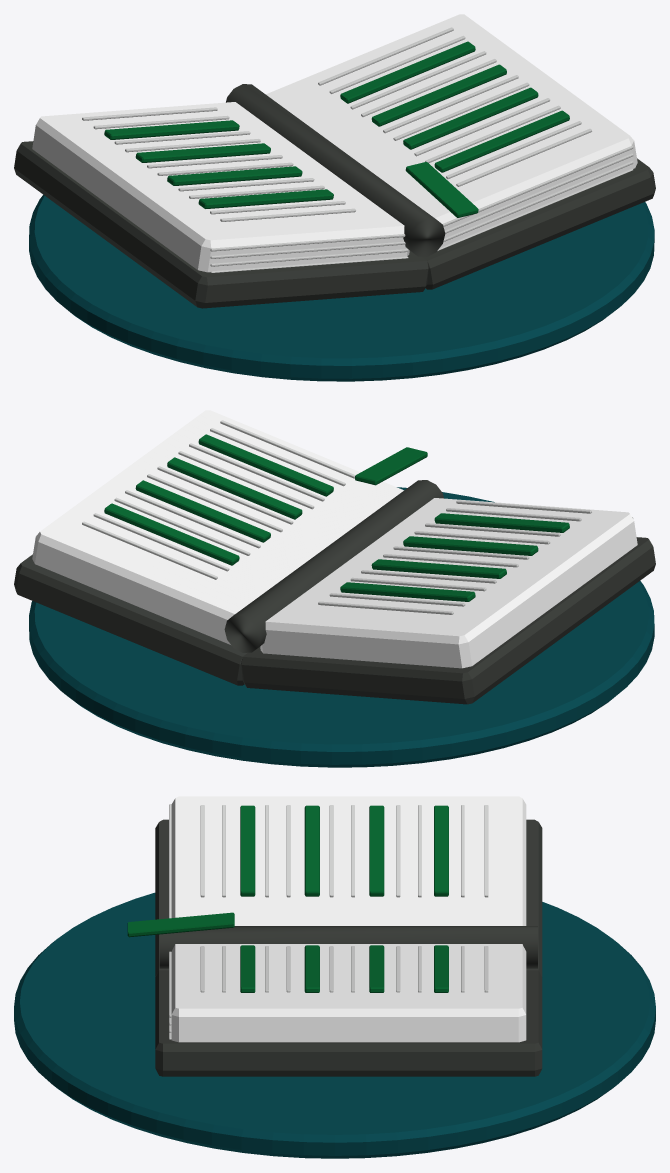
Rendered from publication.glb.
The picture shows the model from 3 angles, top to bottom: view 1: azimuth 30°, elevation 25°; view 2: azimuth 150°, elevation 25°; view 3: azimuth 270°, elevation 25°; orthographic projection. The views are drawn at different scales.
Visible parts, largest first — view 1: body, pedestal; view 2: body, pedestal; view 3: body, pedestal.
Part boxes in pixels (x1,y1,x2,y2): body: [14, 14, 655, 308]; pedestal: [29, 194, 654, 381]; body: [14, 410, 655, 704]; pedestal: [29, 487, 654, 767]; body: [127, 796, 542, 1076]; pedestal: [14, 892, 655, 1158].
Bounding box in the file's own units: 4.4 × 0.9764 × 4.4.
